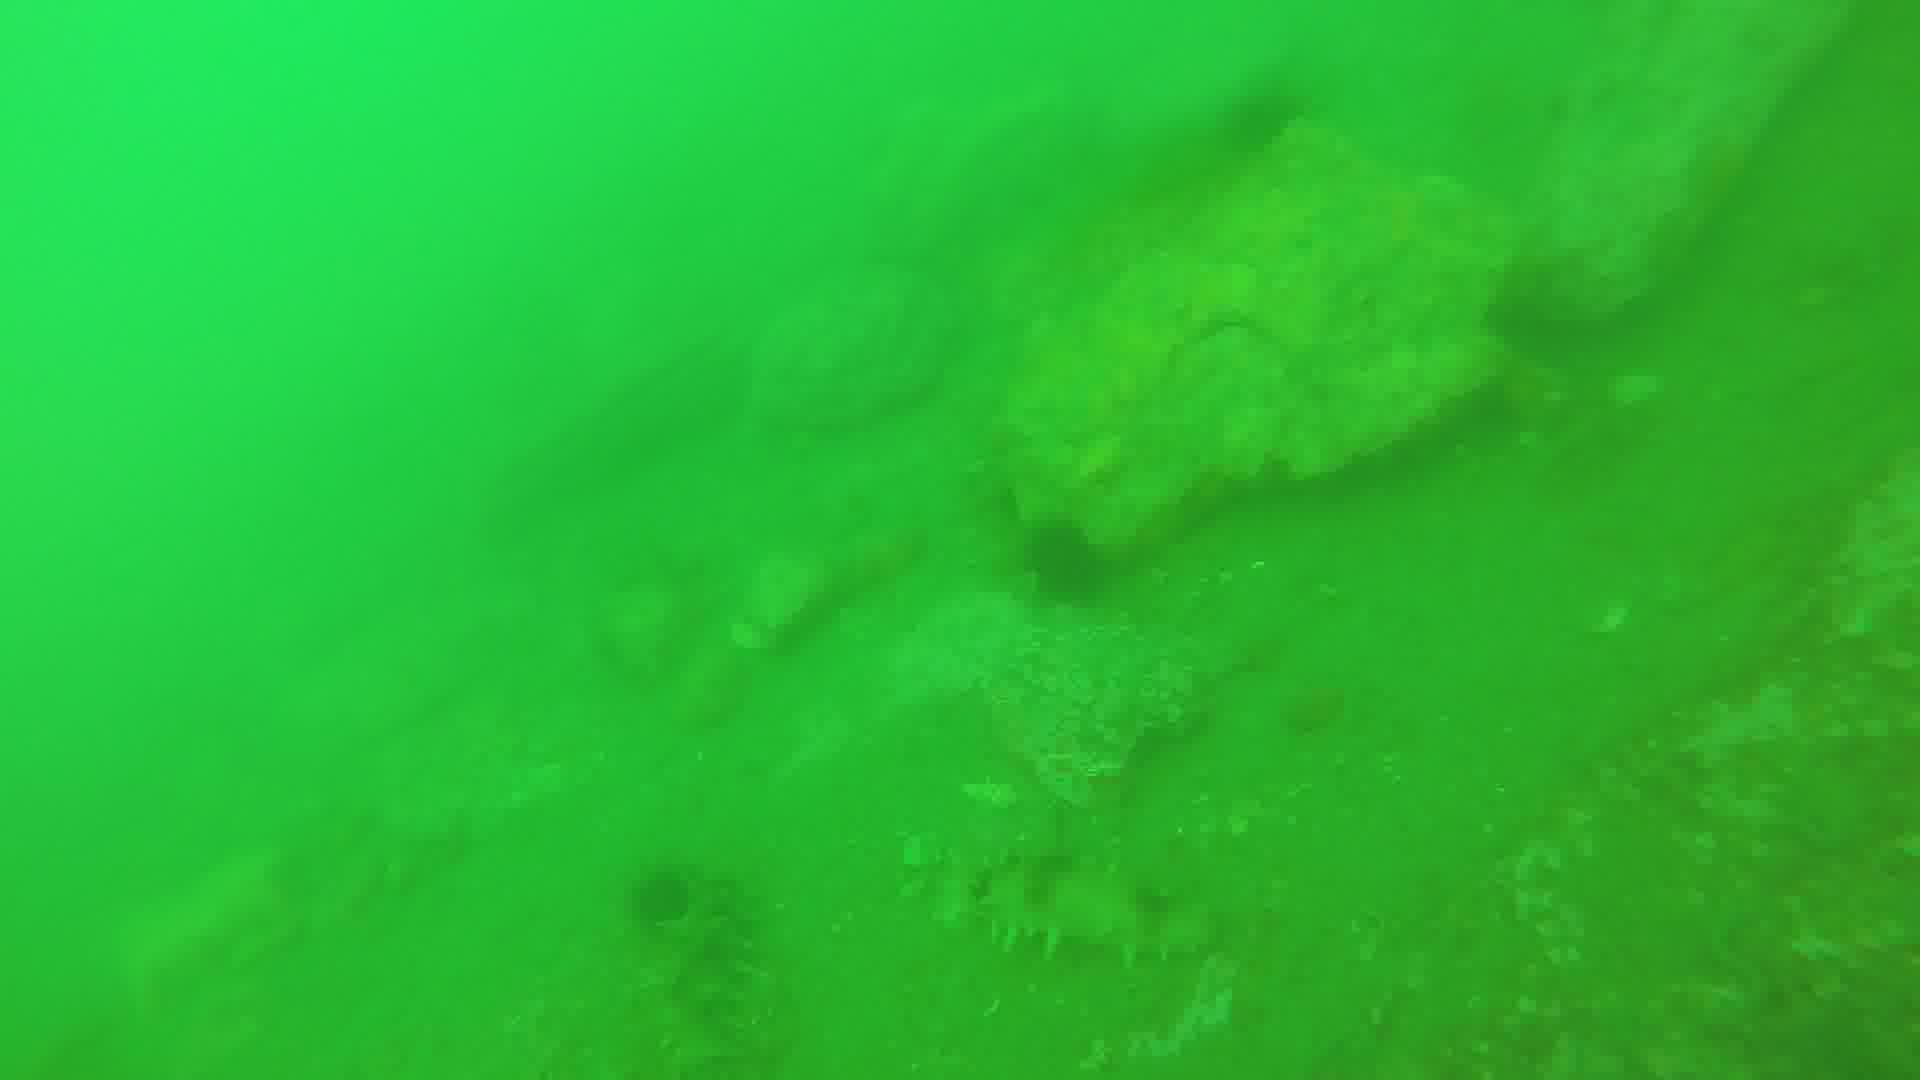echinus: (1023, 517, 1118, 612)
holothurian: (911, 835, 1218, 963), (653, 880, 746, 1080)
